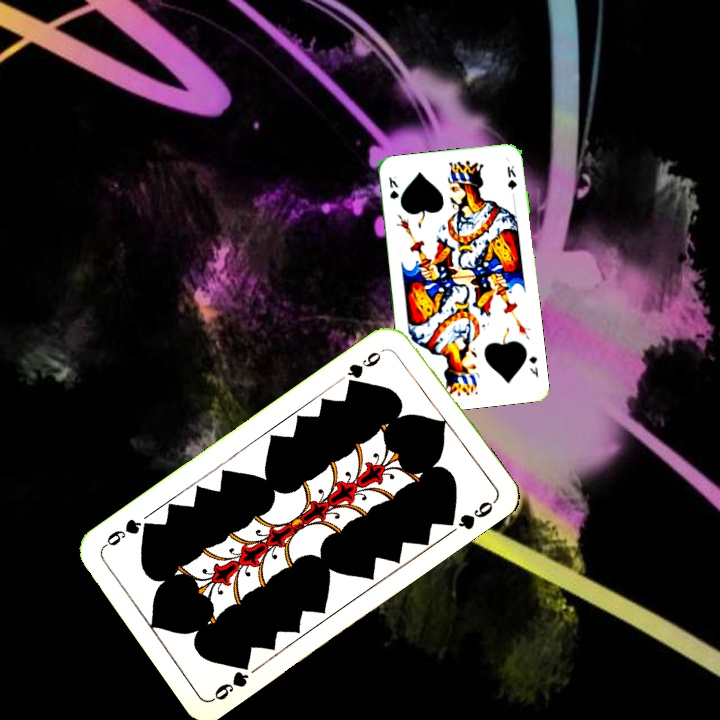G9: (208, 655, 253, 703), (343, 347, 384, 389)
GK: (385, 172, 401, 202), (525, 352, 541, 380)
